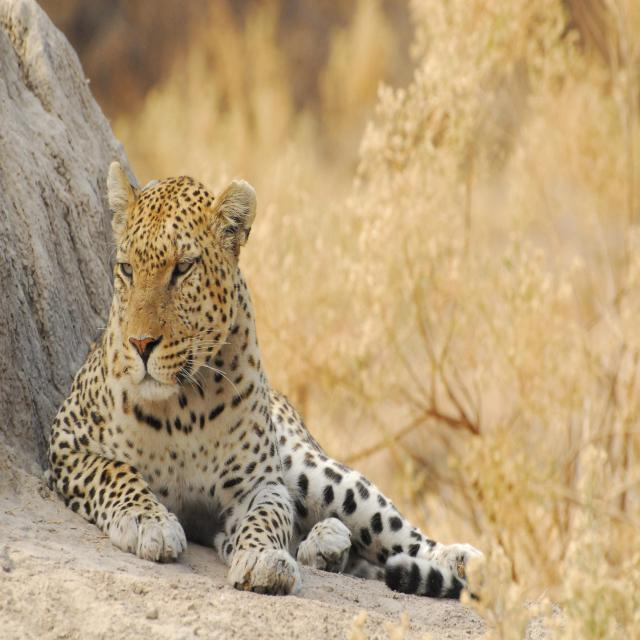Leopard: (41, 161, 509, 604)
